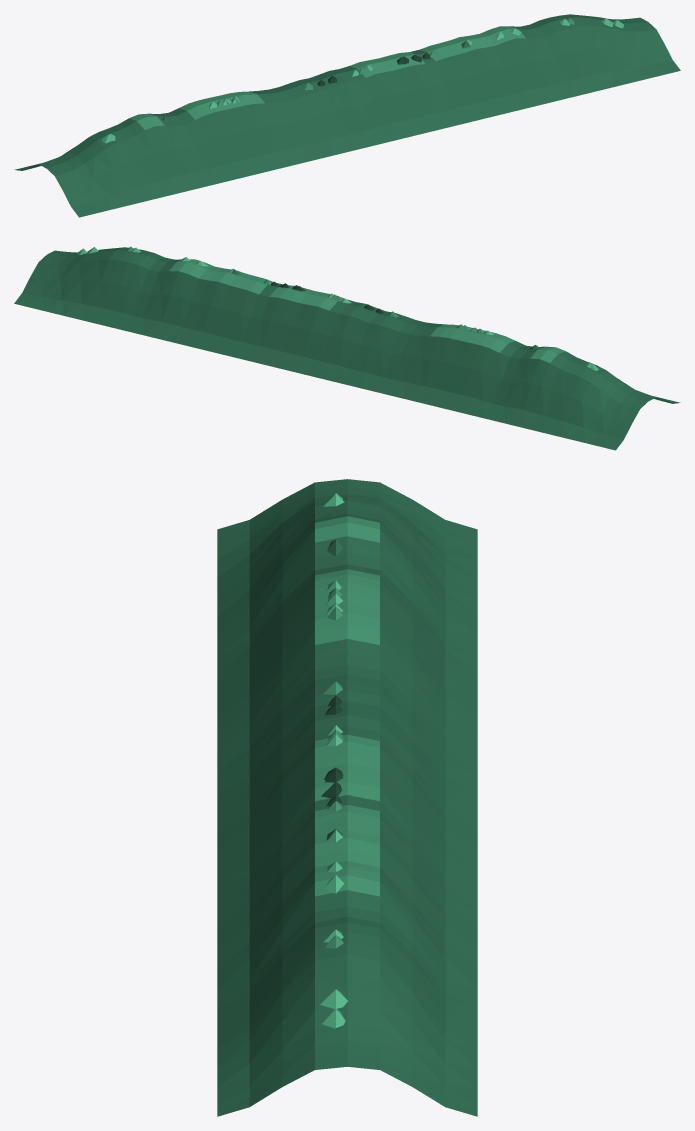
File: W3_Far_HillsA.fbx
The picture shows the model from 3 angles, top to bottom: view 1: azimuth 30°, elevation 25°; view 2: azimuth 150°, elevation 25°; view 3: azimuth 270°, elevation 25°; orthographic projection. The views are drawn at different scales.
Parts seen in each view (by area): view 1: W3_Far_HillsA; view 2: W3_Far_HillsA; view 3: W3_Far_HillsA.
Part boxes in pixels (x1,y1,x2,y2): W3_Far_HillsA: [14, 14, 680, 217]; W3_Far_HillsA: [14, 246, 680, 450]; W3_Far_HillsA: [217, 479, 477, 1116].
Bounding box in the file's own units: 480 × 41.47 × 90.
